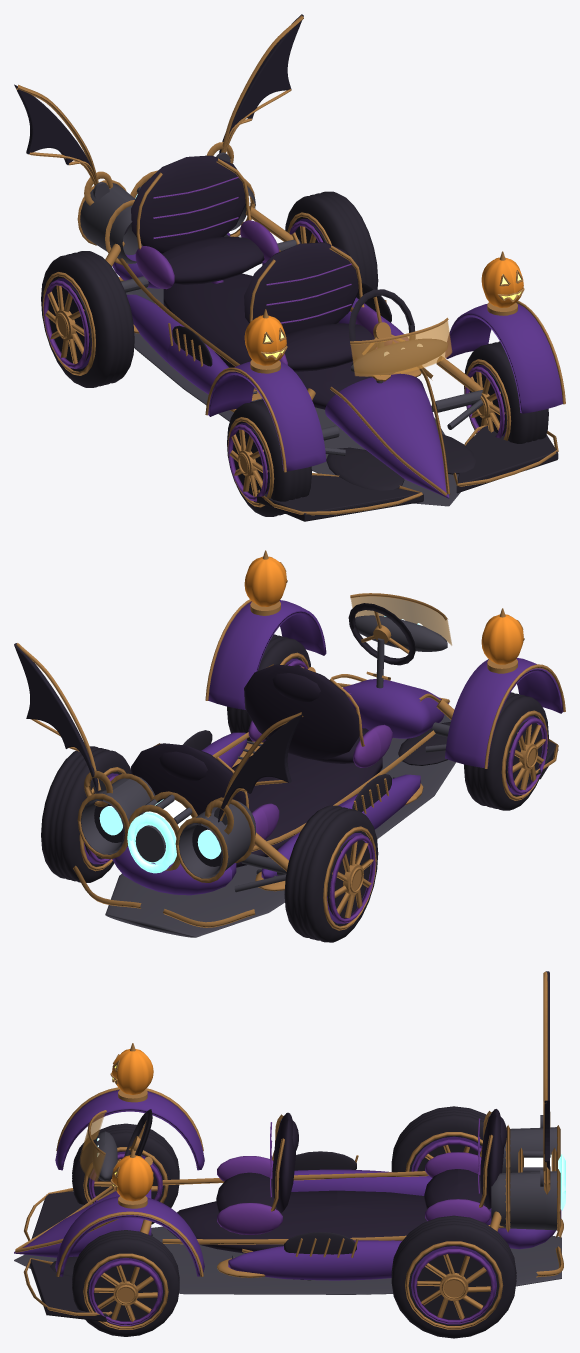
Rendered from A062-C01_DuskwingParade.glb.
3 views of the same model, one above another, from view 1: azimuth 30°, elevation 25°; view 2: azimuth 150°, elevation 25°; view 3: azimuth 270°, elevation 25° (orthographic). The views are drawn at different scales.
Parts seen in each view (by area): view 1: Body, Wheel_RL, Wheel_FL, Wheel_FR, Wheel_RR; view 2: Body, Wheel_RL, Wheel_FL, Wheel_RR, Wheel_FR; view 3: Body, Wheel_RR, Wheel_FR, Wheel_RL, Wheel_FL.
Boxes of the visible parts, x1,y1,x2,y2 form: Body: [14, 14, 565, 521]; Wheel_RL: [41, 251, 134, 387]; Wheel_FL: [227, 399, 311, 516]; Wheel_FR: [464, 341, 548, 443]; Wheel_RR: [285, 191, 378, 289]; Body: [14, 550, 565, 937]; Wheel_RL: [284, 805, 378, 942]; Wheel_FL: [464, 692, 548, 810]; Wheel_RR: [41, 746, 131, 882]; Wheel_FR: [227, 634, 310, 742]; Body: [14, 971, 565, 1321]; Wheel_RR: [391, 1215, 516, 1338]; Wheel_FR: [72, 1230, 179, 1336]; Wheel_RL: [391, 1106, 485, 1172]; Wheel_FL: [72, 1123, 179, 1224].
Size of the model in its own units: 0.5716 by 0.4874 by 1.
